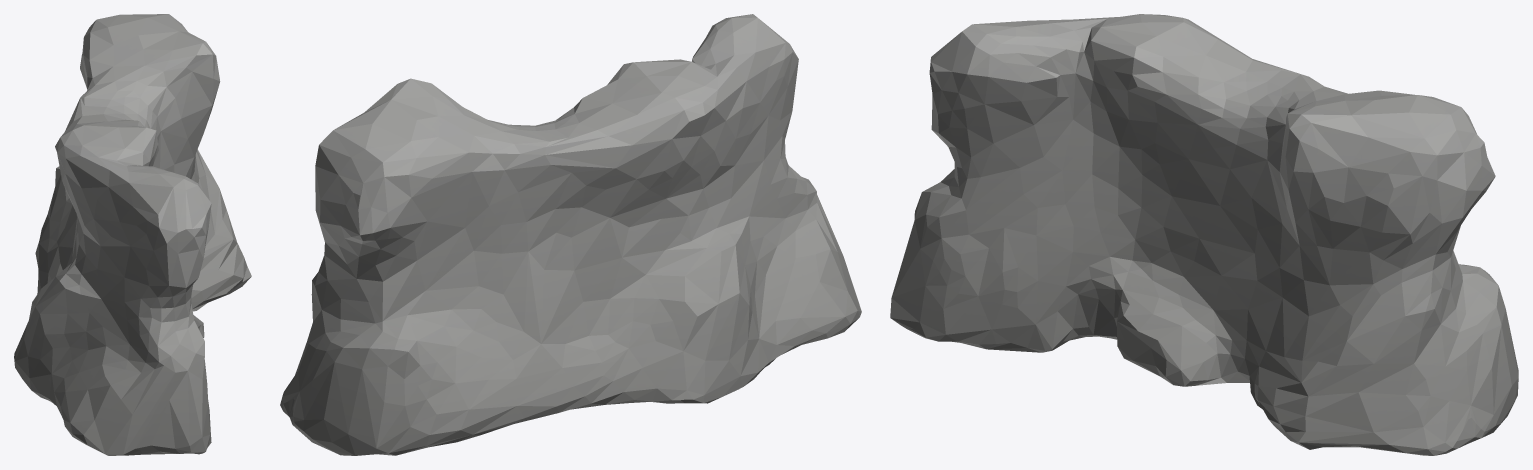
The model's file is Cavern_Wall_Angle-01.fbx.
3 views of the same model, side by side, from view 1: azimuth 30°, elevation 25°; view 2: azimuth 150°, elevation 25°; view 3: azimuth 270°, elevation 25° (orthographic). The views are drawn at different scales.
Parts seen in each view (by area): view 1: Cavern_Wall_Angle-01; view 2: Cavern_Wall_Angle-01; view 3: Cavern_Wall_Angle-01.
Part boxes in pixels (<box>): Cavern_Wall_Angle-01: <box>14,14,251,455</box>; Cavern_Wall_Angle-01: <box>280,14,861,455</box>; Cavern_Wall_Angle-01: <box>890,14,1518,455</box>.
Size of the model in its own units: 1612 by 1291 by 2300.
1 material, 1 textured.
